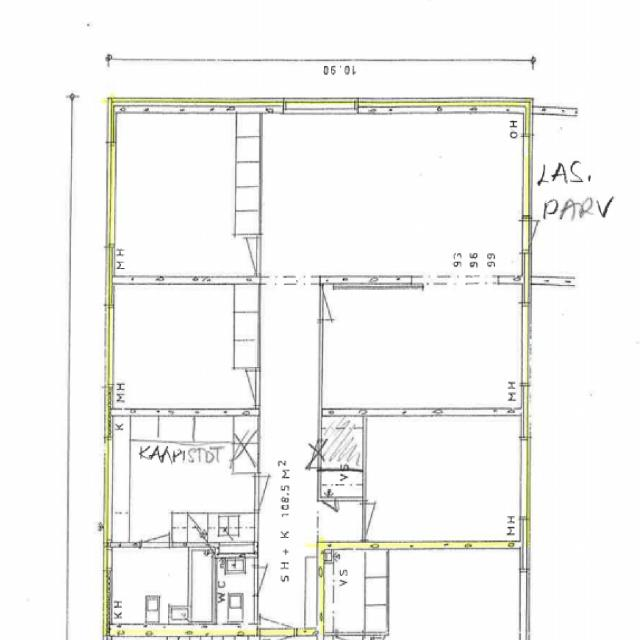door: (260, 591, 295, 637), (220, 238, 257, 274), (521, 221, 560, 253), (222, 371, 257, 405), (362, 505, 397, 539), (252, 476, 288, 509), (318, 286, 353, 319), (140, 511, 169, 548), (252, 567, 284, 596), (322, 498, 341, 524), (260, 629, 295, 640)
